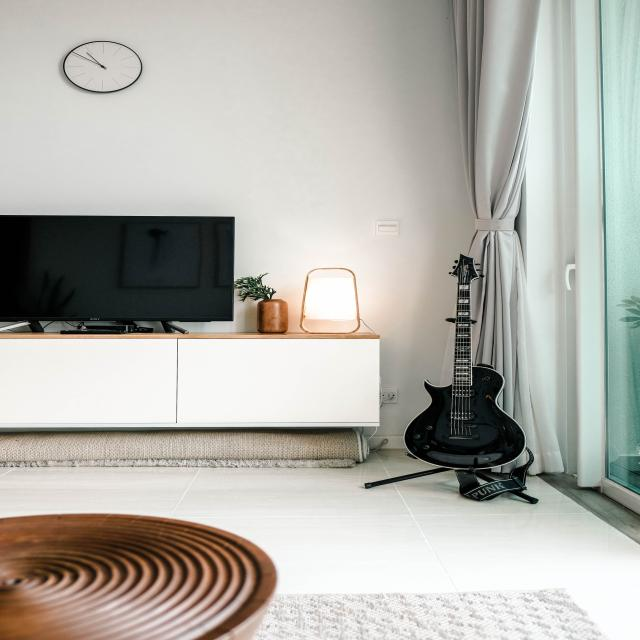floor: (0, 447, 640, 640), (477, 468, 510, 480), (476, 477, 488, 486)
